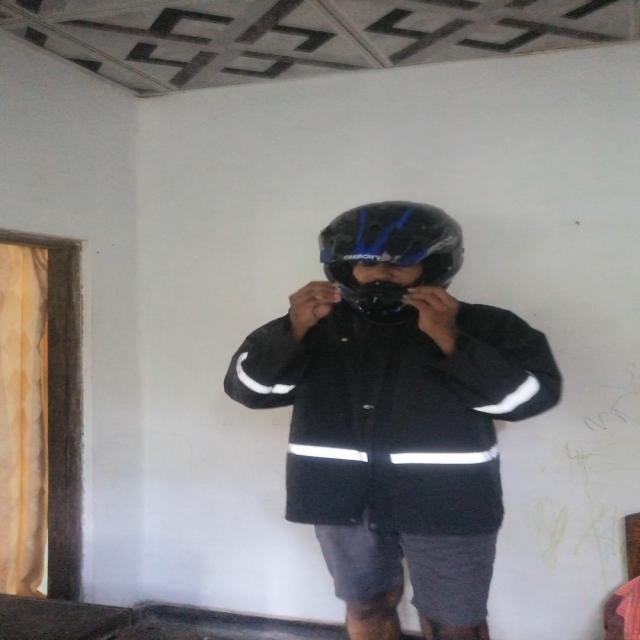Helmet_Wearer: (295, 201, 495, 336)
Jacket_Wearer: (222, 278, 560, 530)
Person: (237, 208, 556, 640)
